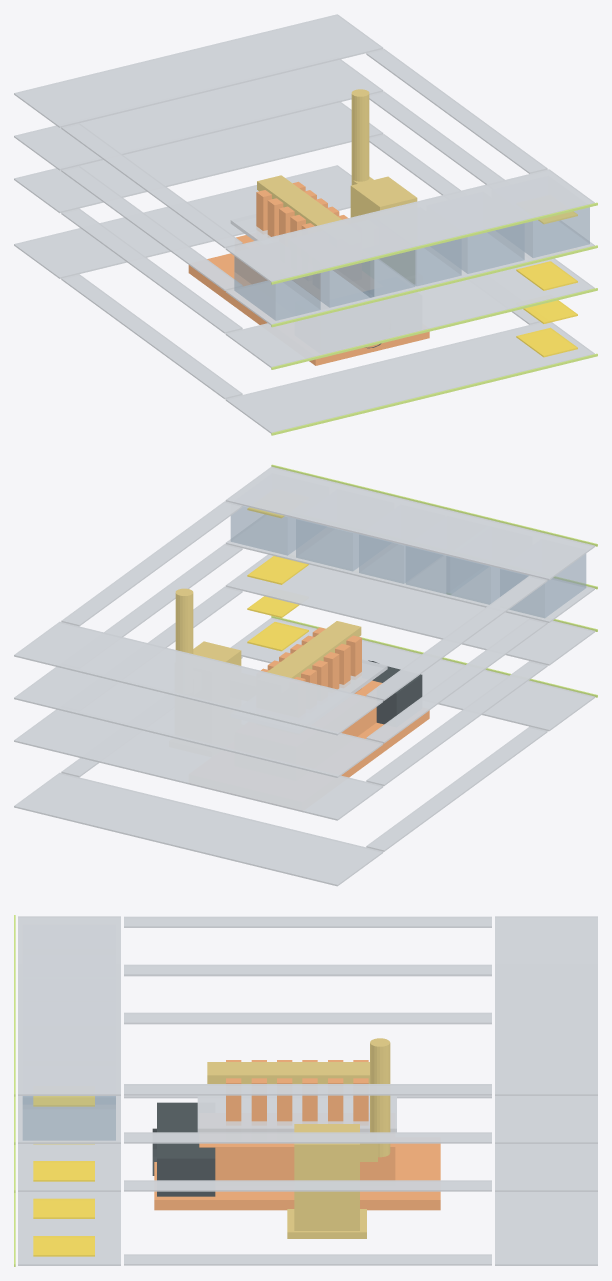
File: engine_unit1_yup_v7.glb
3 views of the same model, one above another, from view 1: azimuth 30°, elevation 25°; view 2: azimuth 150°, elevation 25°; view 3: azimuth 270°, elevation 25° (orthographic). The views are drawn at different scales.
Visible parts, largest first — view 1: UNIT1_LEVEL_4F_EL_23.300_NorthSlab, UNIT1_LEVEL_4F_EL_23.300_SouthSlab, UNIT1_LEVEL_1F_EL_5.600_SouthSlab, UNIT1_LEVEL_3F_EL_18.300_NorthSlab, UNIT1_LEVEL_2F_EL_13.300_SouthSlab, UNIT1_LEVEL_2F_EL_13.300_NorthSlab, UNIT1_LEVEL_3F_EL_18.300_SouthSlab, UNIT1_LEVEL_1F_EL_5.600_NorthSlab, UNIT1_LEVEL_4F_EL_23.300_HallWalkway_L, UNIT1_LEVEL_1F_EL_5.600_HallWalkway_L, UNIT1_LEVEL_2F_EL_13.300_HallWalkway_L, UNIT1_LEVEL_4F_EL_23.300_HallWalkway_R (+23 smaller); view 2: UNIT1_LEVEL_1F_EL_5.600_NorthSlab, UNIT1_LEVEL_4F_EL_23.300_NorthSlab, UNIT1_LEVEL_4F_EL_23.300_SouthSlab, UNIT1_LEVEL_3F_EL_18.300_NorthSlab, UNIT1_LEVEL_2F_EL_13.300_NorthSlab, UNIT1_LEVEL_2F_EL_13.300_SouthSlab, UNIT1_LEVEL_3F_EL_18.300_SouthSlab, UNIT1_LEVEL_1F_EL_5.600_SouthSlab, UNIT1_LEVEL_4F_EL_23.300_HallWalkway_R, UNIT1_LEVEL_2F_EL_13.300_HallWalkway_L, UNIT1_LEVEL_4F_EL_23.300_HallWalkway_L, UNIT1_LEVEL_1F_EL_5.600_HallWalkway_L (+23 smaller); view 3: UNIT1_LEVEL_4F_EL_23.300_NorthSlab, UNIT1_LEVEL_4F_EL_23.300_SouthSlab, UNIT1_LEVEL_1F_EL_5.600_NorthSlab, UNIT1_ENGINE_FoundationPlatform, UNIT1_SCR_Reactor, UNIT1_LEVEL_1F_EL_5.600_SouthSlab, UNIT1_LEVEL_2F_EL_13.300_NorthSlab, UNIT1_LEVEL_3F_EL_18.300_NorthSlab, UNIT1_LEVEL_2F_EL_13.300_HallWalkway_L, UNIT1_LEVEL_3F_EL_18.300_HallWalkway_L, UNIT1_LEVEL_1F_EL_5.600_HallWalkway_R, UNIT1_LEVEL_2F_EL_13.300_HallWalkway_R (+23 smaller).
Boxes of the visible parts, box(x1,y1,x2,y2) form: UNIT1_LEVEL_4F_EL_23.300_NorthSlab: box(14, 14, 383, 127); UNIT1_LEVEL_4F_EL_23.300_SouthSlab: box(225, 169, 594, 282); UNIT1_LEVEL_1F_EL_5.600_SouthSlab: box(225, 322, 594, 433); UNIT1_LEVEL_3F_EL_18.300_NorthSlab: box(14, 59, 383, 170); UNIT1_LEVEL_2F_EL_13.300_SouthSlab: box(225, 258, 594, 367); UNIT1_LEVEL_2F_EL_13.300_NorthSlab: box(14, 102, 383, 213); UNIT1_LEVEL_3F_EL_18.300_SouthSlab: box(225, 220, 594, 325); UNIT1_LEVEL_1F_EL_5.600_NorthSlab: box(14, 165, 351, 278); UNIT1_LEVEL_4F_EL_23.300_HallWalkway_L: box(61, 123, 242, 248); UNIT1_LEVEL_1F_EL_5.600_HallWalkway_L: box(61, 274, 242, 399); UNIT1_LEVEL_2F_EL_13.300_HallWalkway_L: box(61, 208, 242, 333); UNIT1_LEVEL_4F_EL_23.300_HallWalkway_R: box(366, 49, 547, 173); UNIT1_LEVEL_1F_EL_5.600_NorthSlab: box(14, 772, 383, 886); UNIT1_LEVEL_4F_EL_23.300_NorthSlab: box(14, 621, 383, 735); UNIT1_LEVEL_4F_EL_23.300_SouthSlab: box(225, 466, 594, 580); UNIT1_LEVEL_3F_EL_18.300_NorthSlab: box(14, 667, 383, 777); UNIT1_LEVEL_2F_EL_13.300_NorthSlab: box(14, 709, 383, 820); UNIT1_LEVEL_2F_EL_13.300_SouthSlab: box(225, 554, 594, 665); UNIT1_LEVEL_3F_EL_18.300_SouthSlab: box(225, 514, 594, 622); UNIT1_LEVEL_1F_EL_5.600_SouthSlab: box(230, 617, 594, 731); UNIT1_LEVEL_4F_EL_23.300_HallWalkway_R: box(61, 501, 242, 626); UNIT1_LEVEL_2F_EL_13.300_HallWalkway_L: box(366, 661, 547, 785); UNIT1_LEVEL_4F_EL_23.300_HallWalkway_L: box(366, 575, 547, 700); UNIT1_LEVEL_1F_EL_5.600_HallWalkway_L: box(366, 726, 547, 851); UNIT1_LEVEL_4F_EL_23.300_NorthSlab: box(495, 916, 597, 1095); UNIT1_LEVEL_4F_EL_23.300_SouthSlab: box(18, 916, 120, 1095); UNIT1_LEVEL_1F_EL_5.600_NorthSlab: box(495, 1192, 597, 1265); UNIT1_ENGINE_FoundationPlatform: box(154, 1143, 440, 1210); UNIT1_SCR_Reactor: box(294, 1124, 359, 1230); UNIT1_LEVEL_1F_EL_5.600_SouthSlab: box(18, 1192, 120, 1265); UNIT1_LEVEL_2F_EL_13.300_NorthSlab: box(495, 1144, 597, 1191); UNIT1_LEVEL_3F_EL_18.300_NorthSlab: box(495, 1096, 597, 1143); UNIT1_LEVEL_2F_EL_13.300_HallWalkway_L: box(124, 1012, 491, 1024); UNIT1_LEVEL_3F_EL_18.300_HallWalkway_L: box(124, 964, 491, 976); UNIT1_LEVEL_1F_EL_5.600_HallWalkway_R: box(124, 1254, 491, 1265); UNIT1_LEVEL_2F_EL_13.300_HallWalkway_R: box(124, 1180, 491, 1191).
Bounding box in the file's own units: 40 × 19.25 × 55.08.
